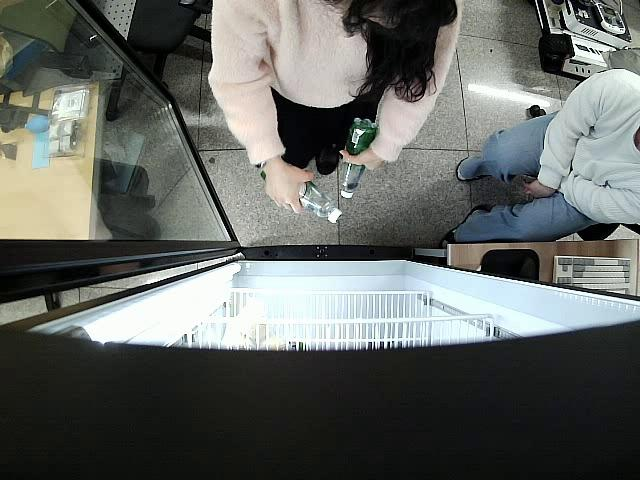00_hand: (266, 166, 313, 219), (341, 147, 378, 171)
18_trevi: (262, 160, 343, 223), (338, 117, 378, 198)
